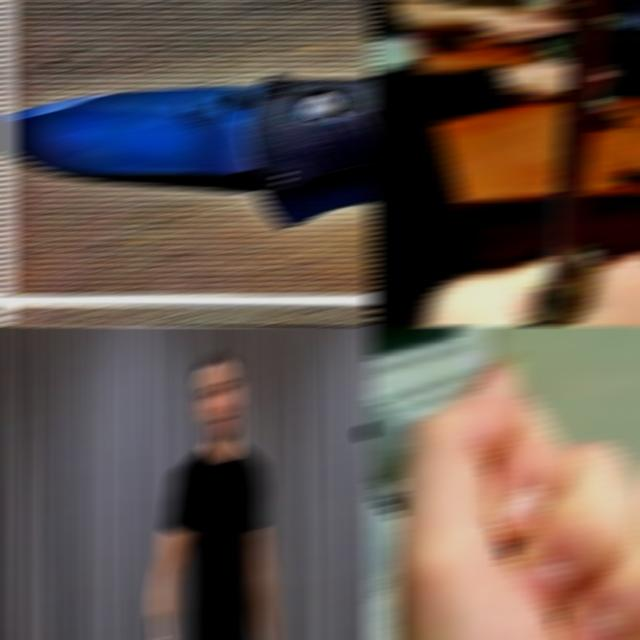Knife_Handle: (367, 326, 640, 640), (378, 0, 640, 326), (143, 610, 173, 640)
